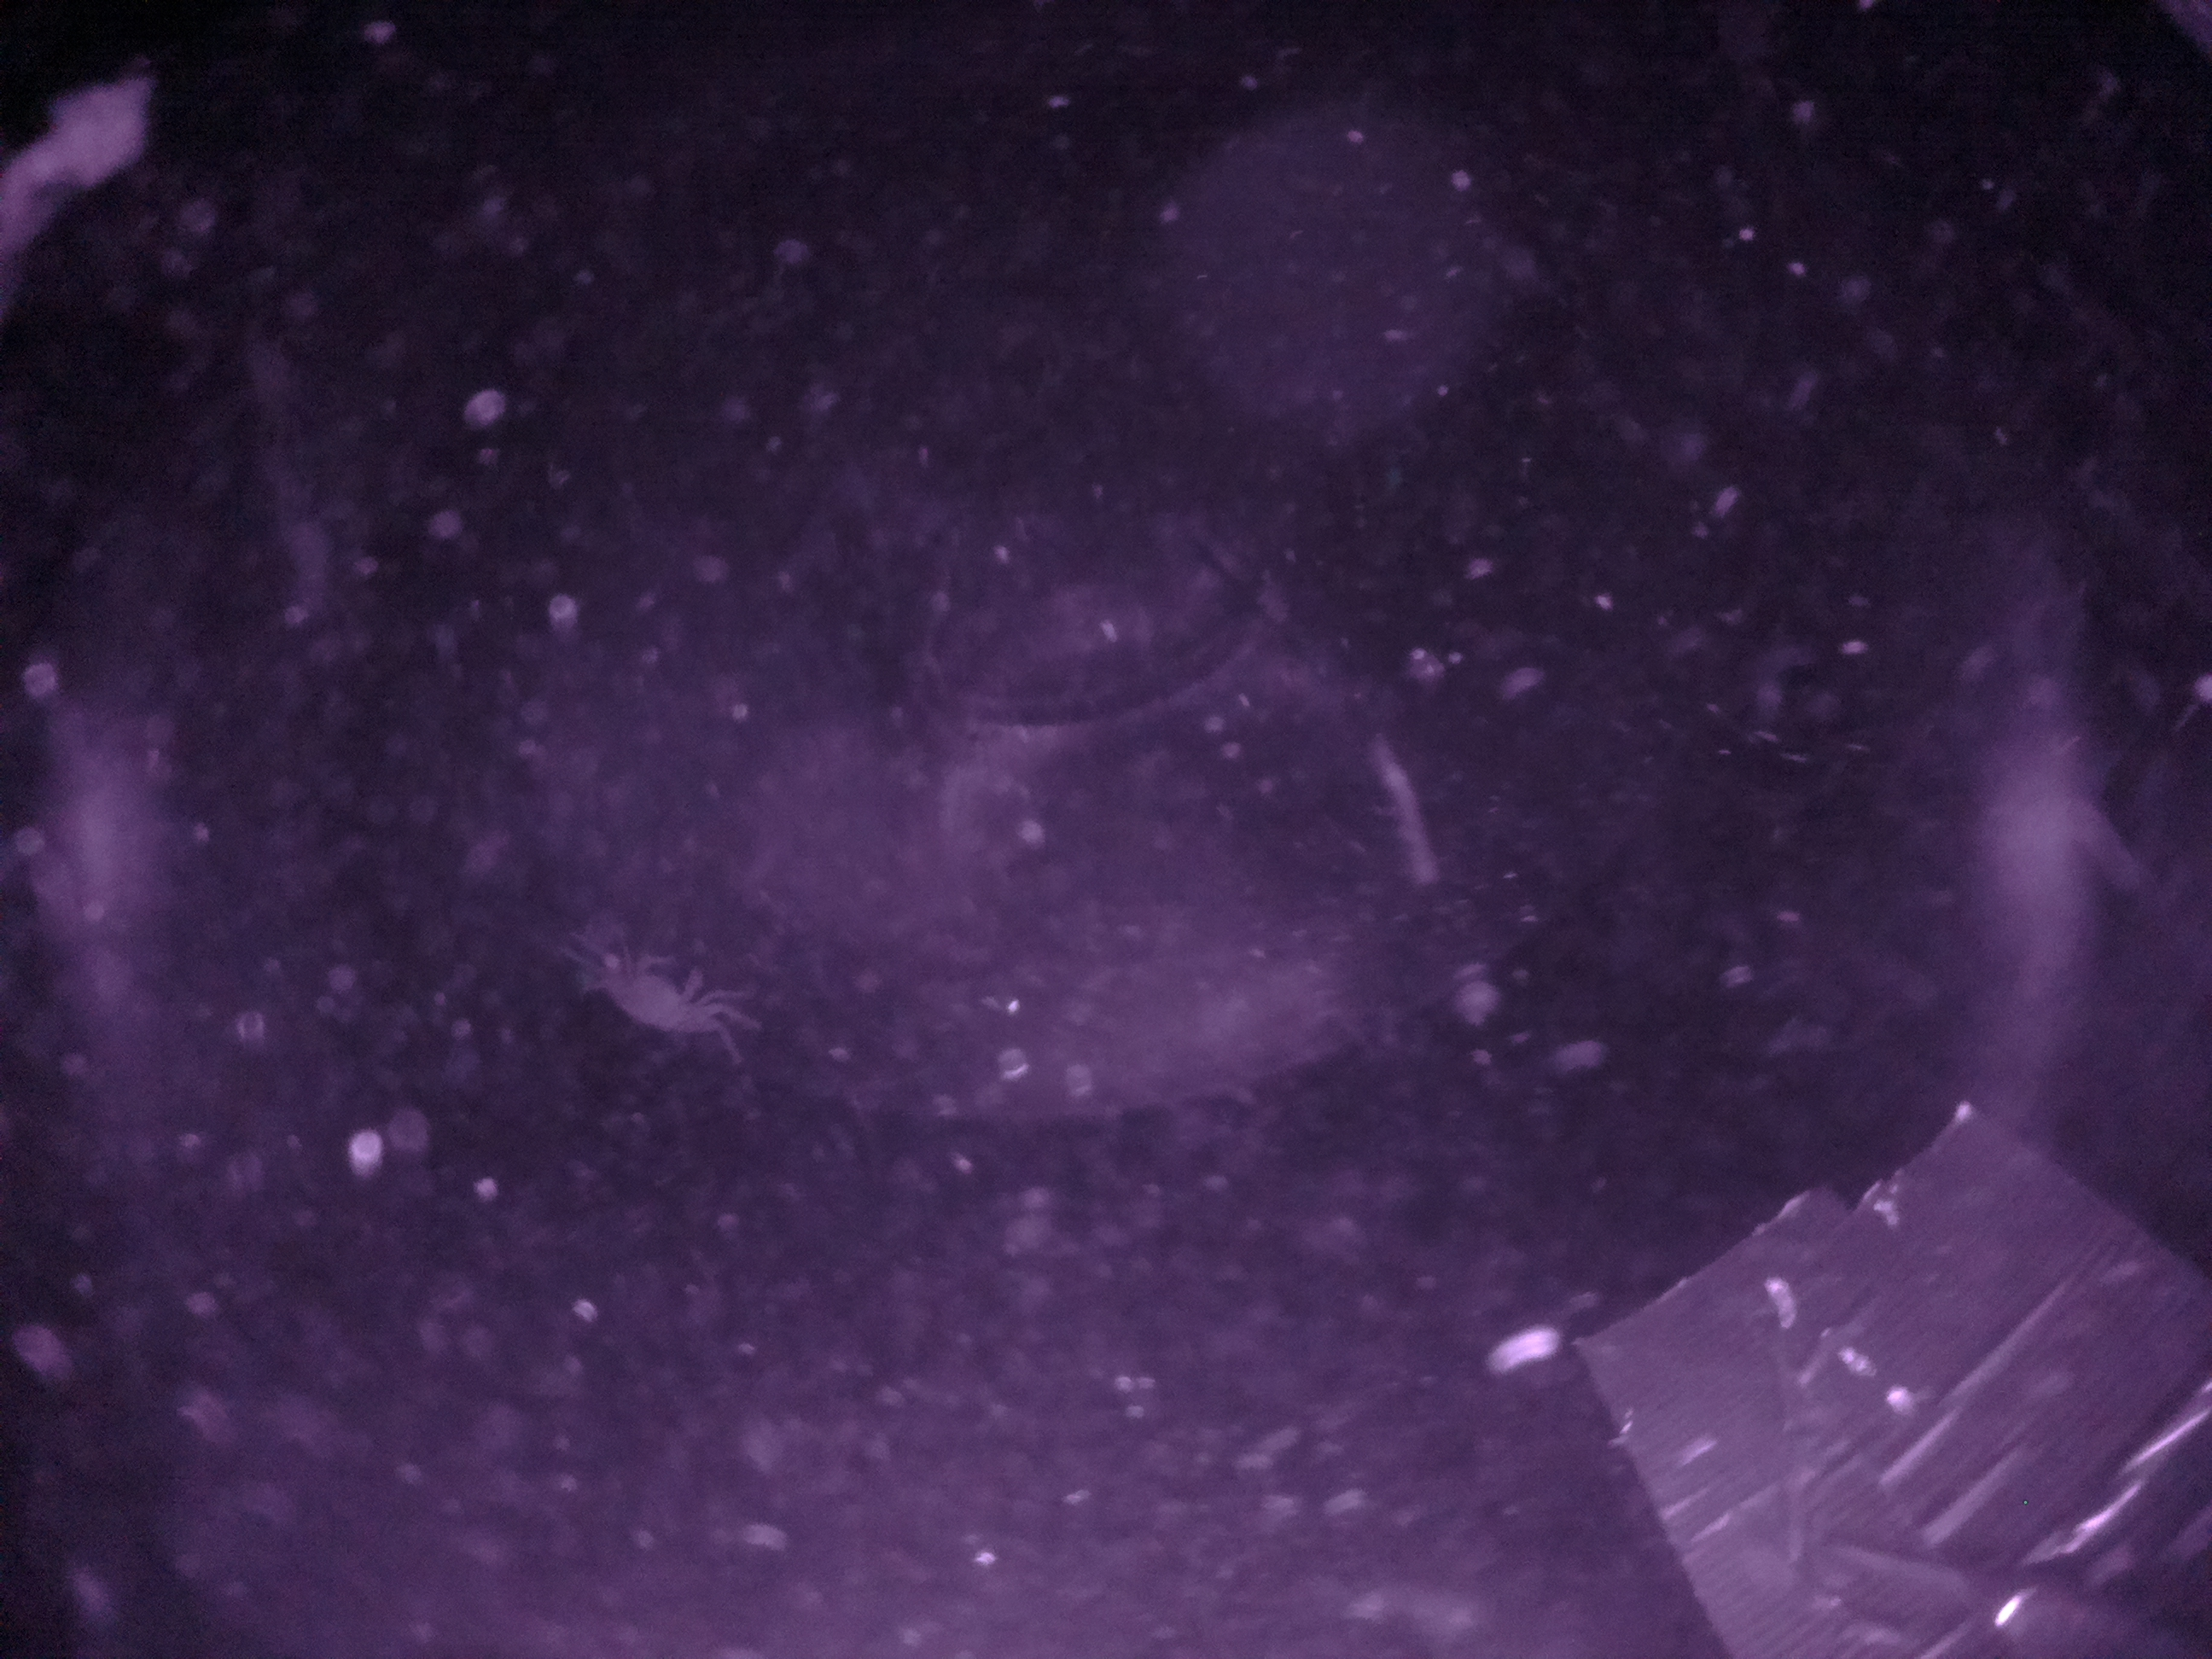Crab: (577, 936, 730, 1053)
